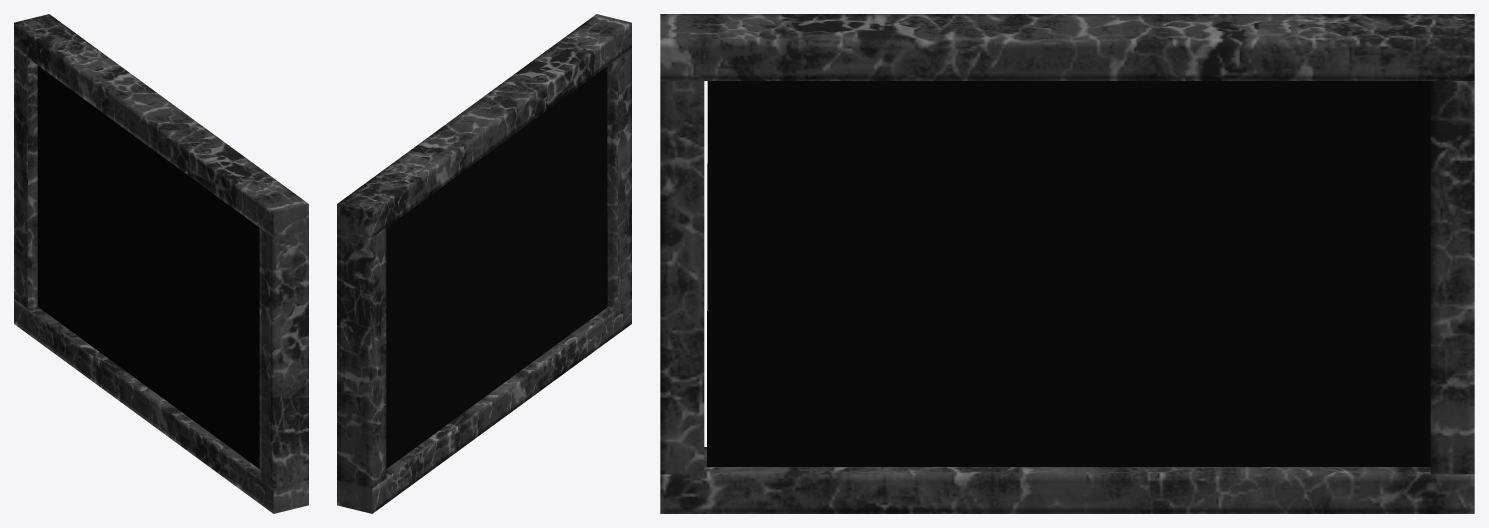
File: BuildingB_Window_mdl.fbx
3 renders of one model, left to right at view 1: azimuth 30°, elevation 25°; view 2: azimuth 150°, elevation 25°; view 3: azimuth 270°, elevation 25°, orthographic. The views are drawn at different scales.
Visible parts, largest first — view 1: BuildingB_Window_LOD0; view 2: BuildingB_Window_LOD0; view 3: BuildingB_Window_LOD0.
Boxes of the visible parts, <box> form: BuildingB_Window_LOD0: <box>14,14,308,513</box>; BuildingB_Window_LOD0: <box>337,14,631,513</box>; BuildingB_Window_LOD0: <box>660,14,1474,513</box>.
Size of what is drawn, in the model's own units: 7.11 by 58.08 by 90.62.
